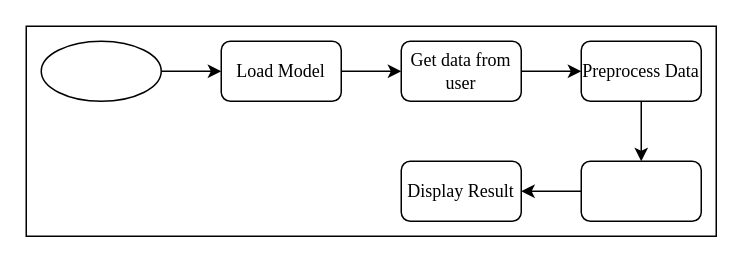
Image size: 743x263. Some labels were removed from this diagram. Each missing label, with the centre of its shape:
"Make Prediction" belongs at (x=640, y=190).
"Start" belongs at (x=100, y=70).
